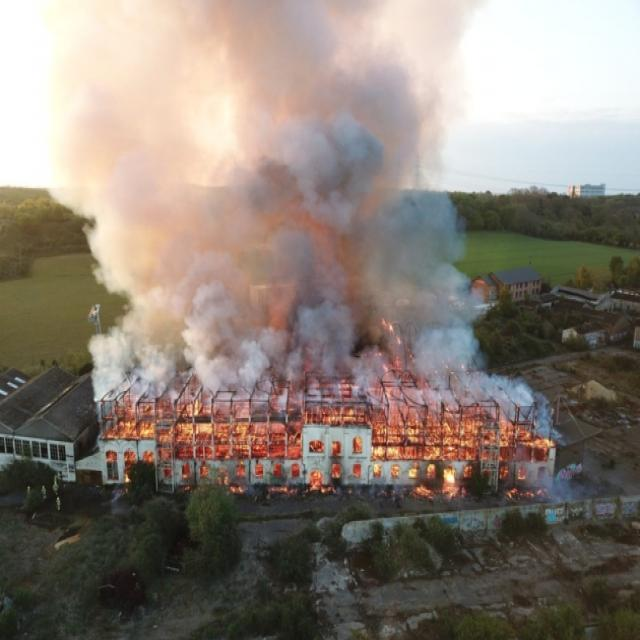Fire: (103, 402, 556, 498)
Smoke: (55, 0, 475, 380)
